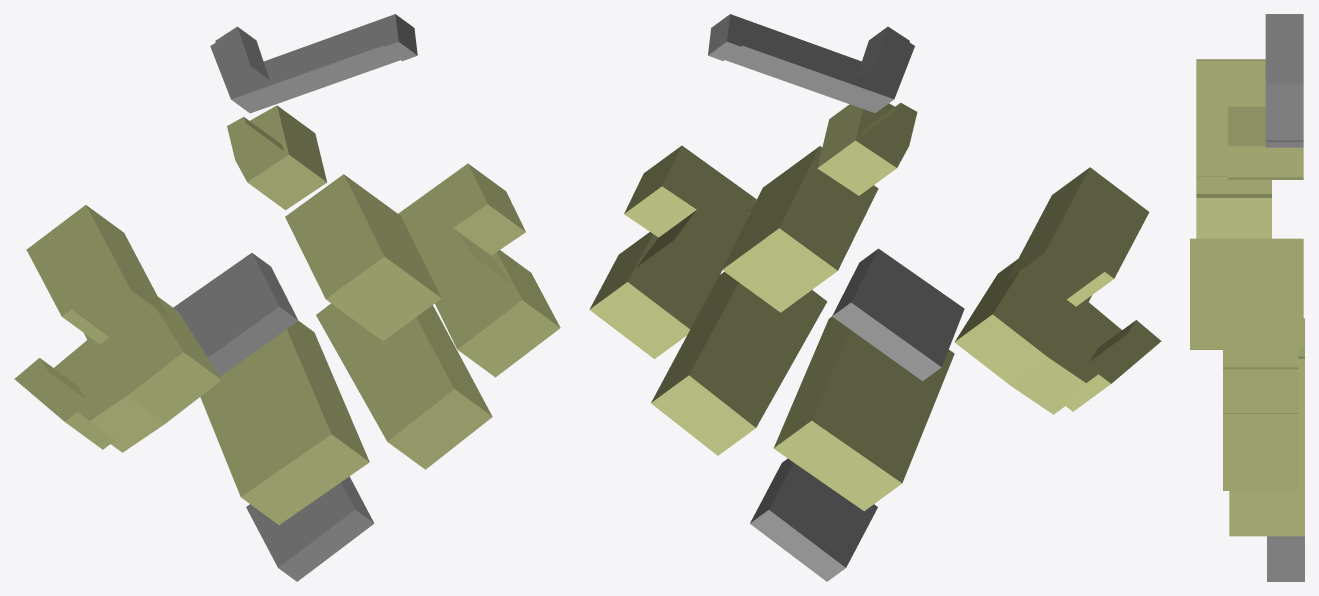
The picture shows the model from 3 angles, left to right: view 1: azimuth 30°, elevation 25°; view 2: azimuth 150°, elevation 25°; view 3: azimuth 270°, elevation 25°; orthographic projection.
Visible parts, largest first — view 1: 0_1_0_2_0_0_3_1_3; view 2: 0_1_0_2_0_0_3_1_3; view 3: 0_1_0_2_0_0_3_1_3.
Part boxes in pixels (x1=…): 0_1_0_2_0_0_3_1_3: x1=14, y1=14, x2=560, y2=581; 0_1_0_2_0_0_3_1_3: x1=589, y1=14, x2=1161, y2=581; 0_1_0_2_0_0_3_1_3: x1=1190, y1=14, x2=1304, y2=581.
Bounding box in the file's own units: 47.25 × 47.79 × 9.1.
